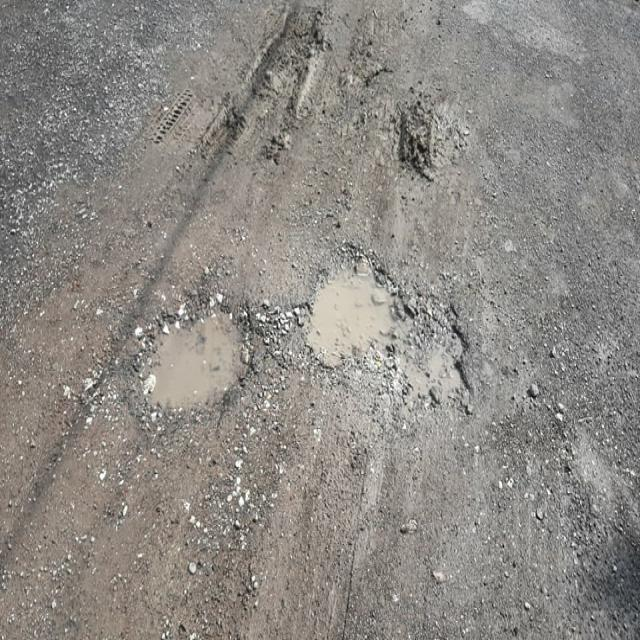Pothole: (62, 234, 499, 522)
